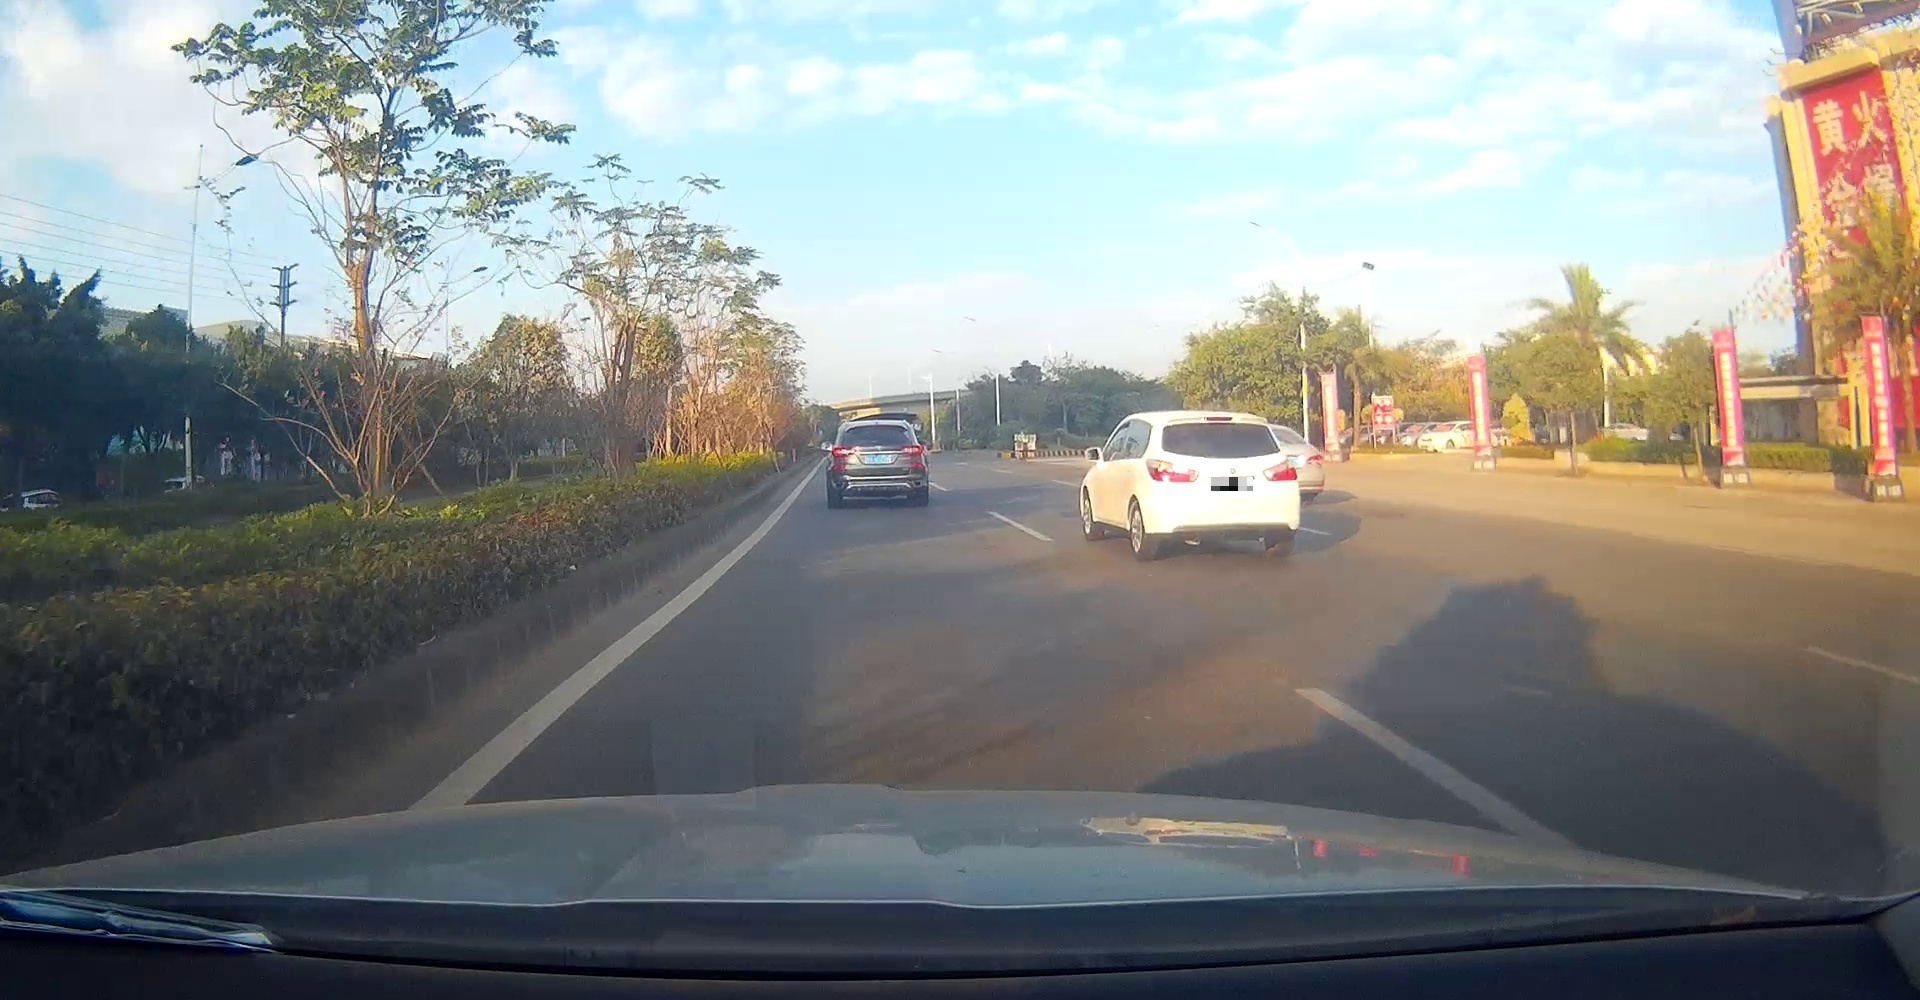L_light: (1145, 457, 1197, 484), (830, 448, 857, 457)
R_light: (1261, 459, 1297, 481), (900, 445, 922, 456)
T_light: (1203, 414, 1233, 423), (867, 424, 888, 428)
day-no: (1142, 412, 1302, 558), (825, 419, 930, 506)
plate_1: (1211, 477, 1253, 491)
